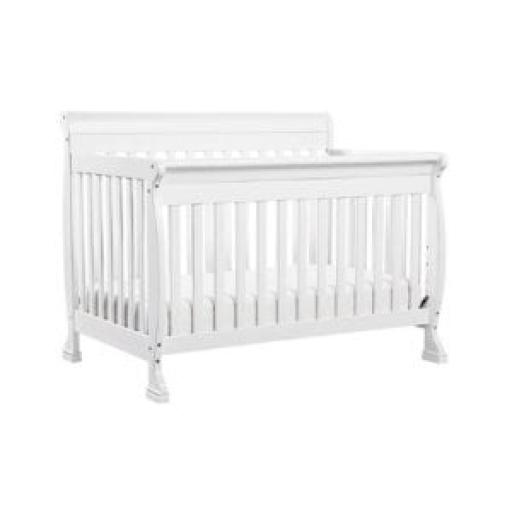crib: (64, 113, 445, 401)
